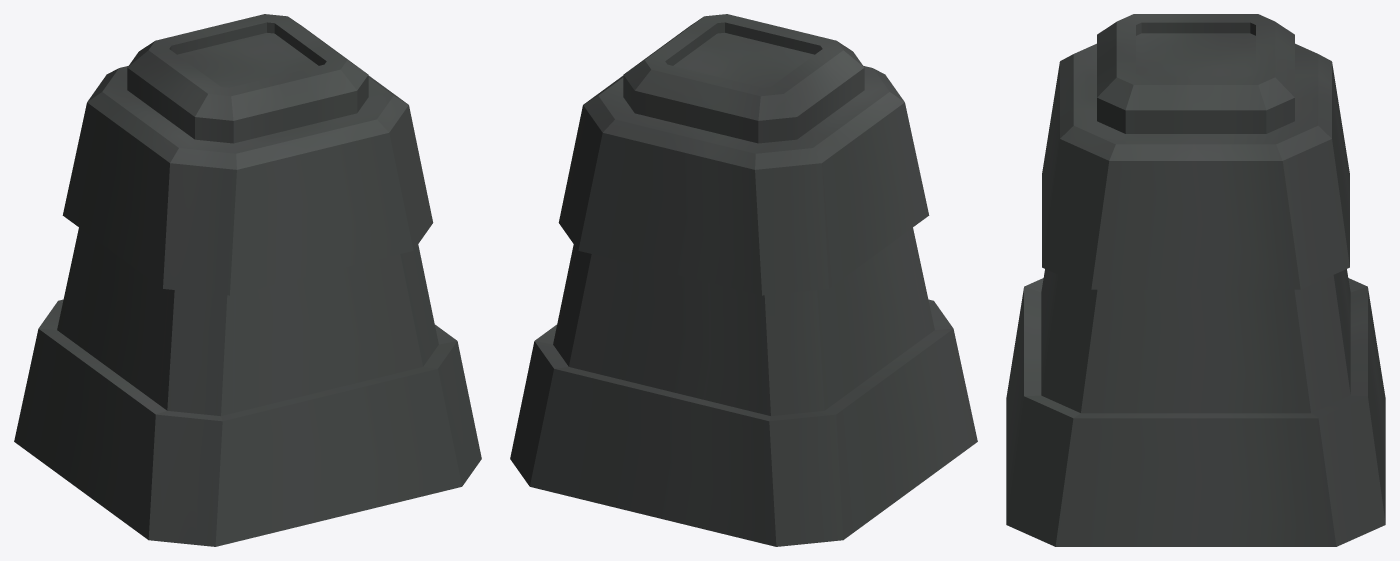
Rendered from firepit.fbx.
The picture shows the model from 3 angles, left to right: view 1: azimuth 30°, elevation 25°; view 2: azimuth 150°, elevation 25°; view 3: azimuth 270°, elevation 25°; orthographic projection. The views are drawn at different scales.
Visible parts, largest first — view 1: Cylinder.003; view 2: Cylinder.003; view 3: Cylinder.003.
Part boxes in pixels (x1=…): Cylinder.003: x1=14, y1=14, x2=481, y2=546; Cylinder.003: x1=510, y1=14, x2=977, y2=546; Cylinder.003: x1=1006, y1=14, x2=1385, y2=546.
Size of the model in its own units: 87.22 by 98.84 by 82.4.
